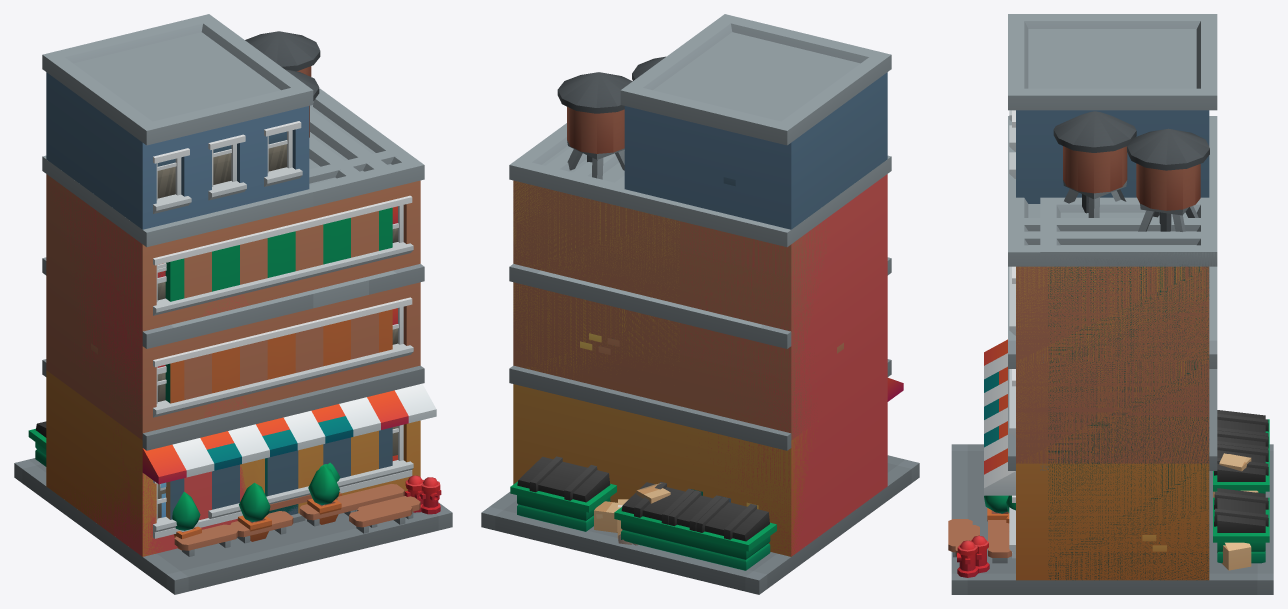
The model's file is city.glb.
The picture shows the model from 3 angles, left to right: view 1: azimuth 30°, elevation 25°; view 2: azimuth 150°, elevation 25°; view 3: azimuth 270°, elevation 25°; orthographic projection.
Visible parts, largest first — view 1: building_E, building_E_withoutBase, building_H, building_H_withoutBase, building_D, building_F_withoutBase, building_B, building_F, building_G, building_A, building_C, building_D_withoutBase (+3 smaller); view 2: building_E, building_H, building_F_withoutBase, building_H_withoutBase, building_F, building_C, building_E_withoutBase, building_G, building_D, building_B, building_A; view 3: building_E_withoutBase, building_H, building_F_withoutBase, building_H_withoutBase, building_D, building_G_withoutBase, building_E, building_C, building_G, building_B, building_A, building_D_withoutBase (+2 smaller).
Part boxes in pixels (bbox=[...]): building_E: bbox=[91, 106, 436, 556]; building_E_withoutBase: bbox=[42, 153, 423, 542]; building_H: bbox=[28, 14, 420, 533]; building_H_withoutBase: bbox=[42, 17, 313, 520]; building_D: bbox=[15, 69, 452, 594]; building_F_withoutBase: bbox=[42, 101, 424, 556]; building_B: bbox=[170, 270, 396, 543]; building_F: bbox=[142, 267, 424, 556]; building_G: bbox=[43, 88, 441, 523]; building_A: bbox=[198, 277, 423, 513]; building_C: bbox=[14, 155, 340, 594]; building_D_withoutBase: bbox=[185, 108, 395, 306]; building_E: bbox=[510, 146, 843, 556]; building_H: bbox=[557, 14, 890, 570]; building_F_withoutBase: bbox=[509, 174, 889, 556]; building_H_withoutBase: bbox=[509, 18, 891, 450]; building_F: bbox=[513, 181, 791, 556]; building_C: bbox=[481, 160, 919, 594]; building_E_withoutBase: bbox=[760, 156, 903, 556]; building_G: bbox=[510, 123, 890, 563]; building_D: bbox=[482, 56, 918, 580]; building_B: bbox=[537, 270, 763, 547]; building_A: bbox=[565, 277, 734, 495]; building_E_withoutBase: bbox=[984, 222, 1217, 580]; building_H: bbox=[955, 14, 1269, 570]; building_F_withoutBase: bbox=[1008, 225, 1217, 580]; building_H_withoutBase: bbox=[1008, 14, 1217, 456]; building_D: bbox=[948, 111, 1273, 580]; building_G_withoutBase: bbox=[1040, 204, 1216, 579]; building_E: bbox=[972, 197, 1269, 573]; building_C: bbox=[951, 204, 1273, 594]; building_G: bbox=[957, 116, 1269, 577]; building_B: bbox=[988, 266, 1269, 531]; building_A: bbox=[971, 266, 1217, 573]; building_D_withoutBase: bbox=[1008, 197, 1200, 308].
Size of the model in its own units: 2.01 by 3.11 by 2.02.
1 material, 1 textured.
